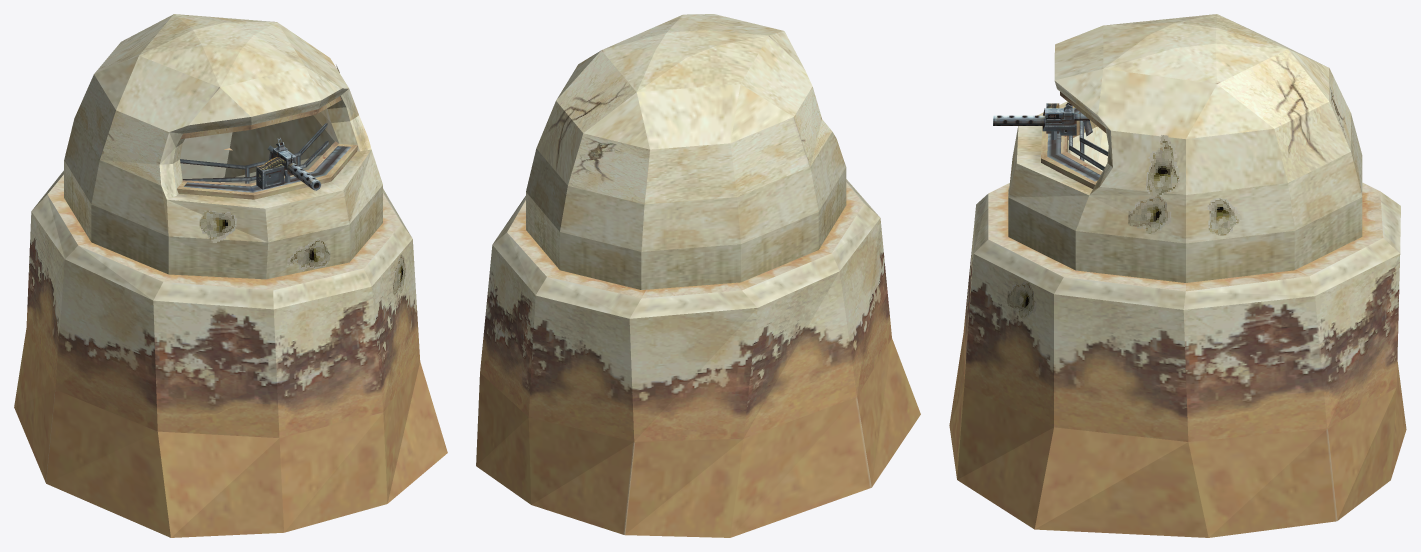
The model's file is C2SBKMGH.obj.
3 views of the same model, side by side, from view 1: azimuth 30°, elevation 25°; view 2: azimuth 150°, elevation 25°; view 3: azimuth 270°, elevation 25° (orthographic). The views are drawn at different scales.
Parts seen in each view (by area): view 1: Node 0, Node 6; view 2: Node 0; view 3: Node 0, Node 6.
Boxes of the visible parts, left/top/right/bottom form: Node 0: left=14, top=14, right=447, bottom=537; Node 6: left=256, top=138, right=321, bottom=190; Node 0: left=476, top=14, right=920, bottom=537; Node 0: left=949, top=14, right=1406, bottom=537; Node 6: left=993, top=102, right=1092, bottom=136.
Size of the model in its own units: 9.92 by 10.85 by 10.79.
8 materials, 8 textured.
